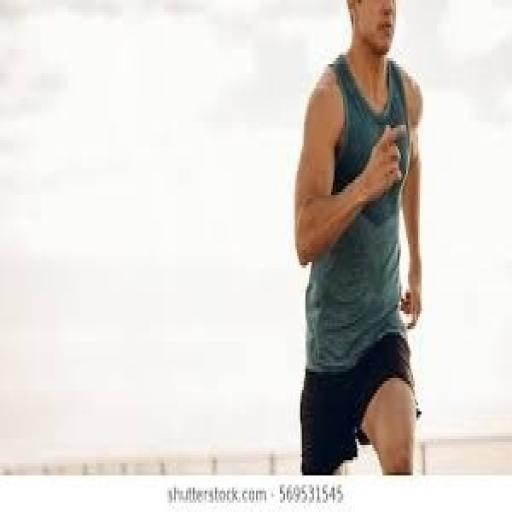running: (292, 0, 427, 475)
